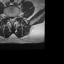CCS_stenosis: (11, 15, 13, 24)
LFS_normal: (15, 13, 17, 20)
LLS_normal: (13, 15, 15, 22)
RFS_normal: (7, 14, 9, 20)
RLS_normal: (9, 15, 11, 23)
